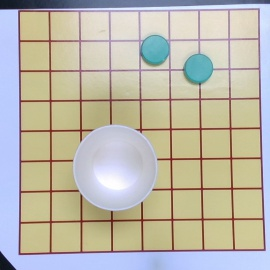cup: (70, 124, 157, 213)
green: (183, 54, 213, 83), (141, 35, 169, 64)
